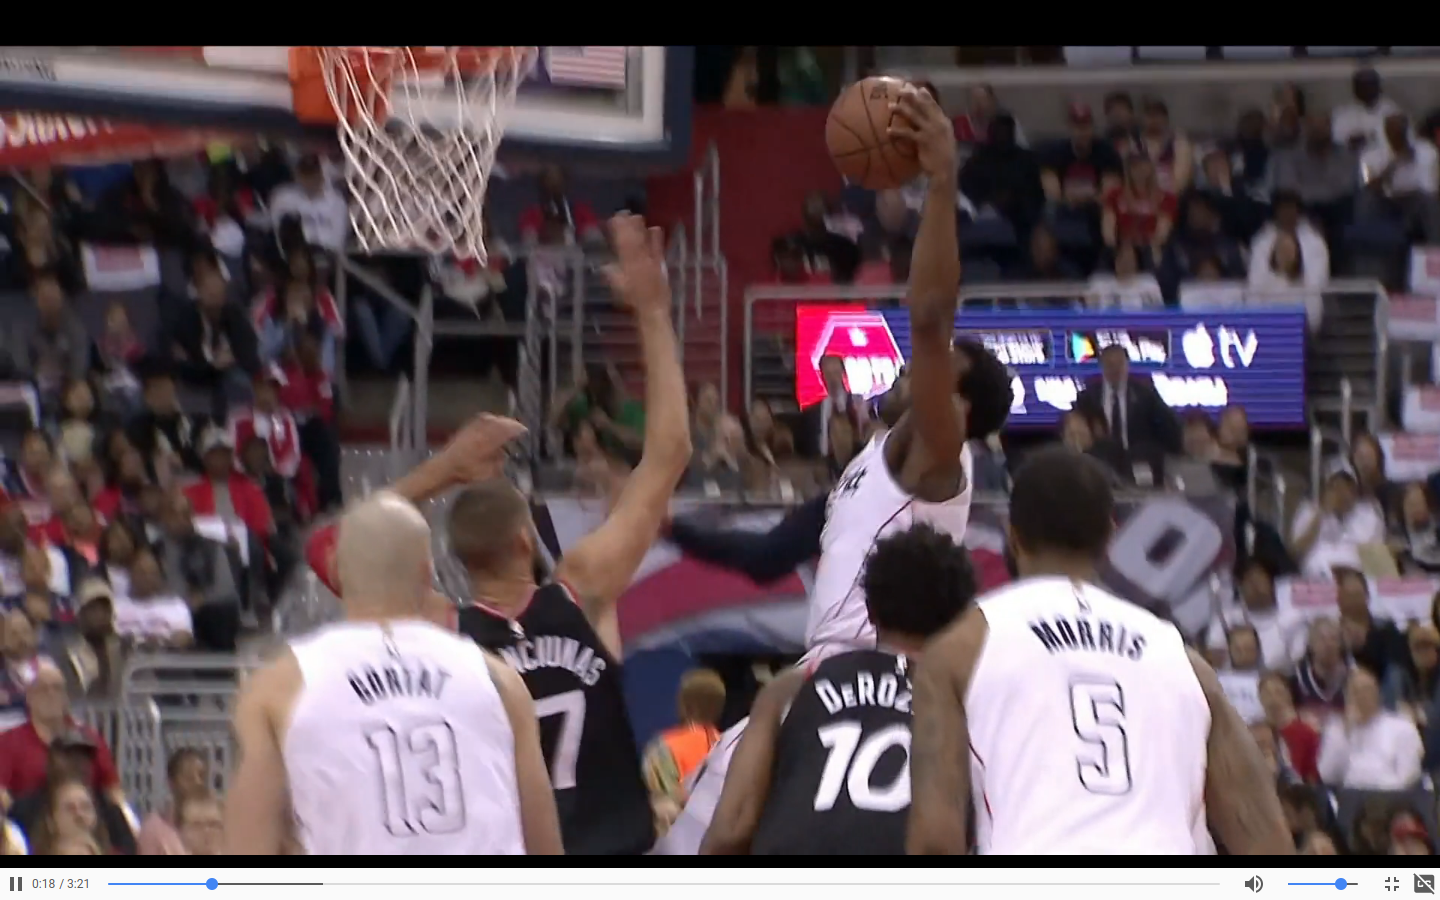basketball: (818, 69, 947, 196)
basketball player: (418, 208, 687, 856), (928, 471, 1295, 857), (196, 496, 581, 856), (799, 72, 1013, 648), (705, 526, 984, 854)
